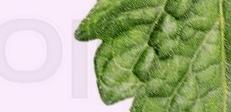Tomato leaf: (83, 0, 231, 112)
